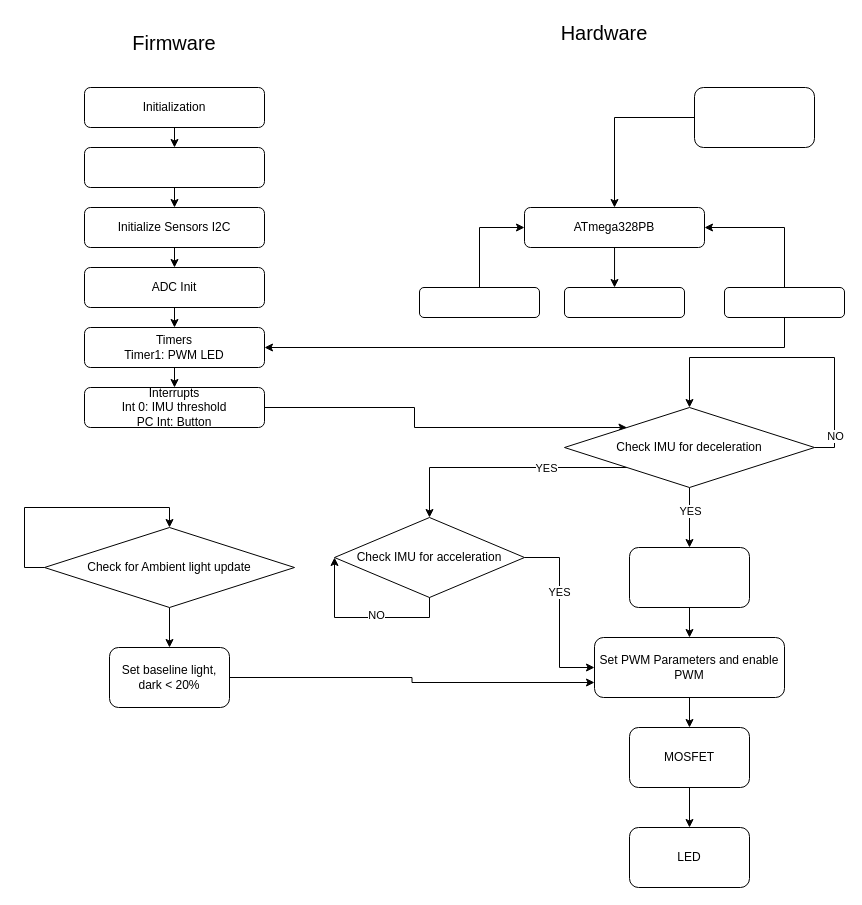
Image size: 862x905. Some labels were removed from this diagram. The shapes that lost their labels are listed below. From the top down, each one's centre as x and y in pixels, then its label:
pixel 754 117: 5V Power Bank
pixel 174 167: Set GPIO Pin Direction
pixel 479 302: Light Sensor
pixel 624 302: LCD Screen
pixel 784 302: IMU
pixel 689 577: Enable TIMER1
